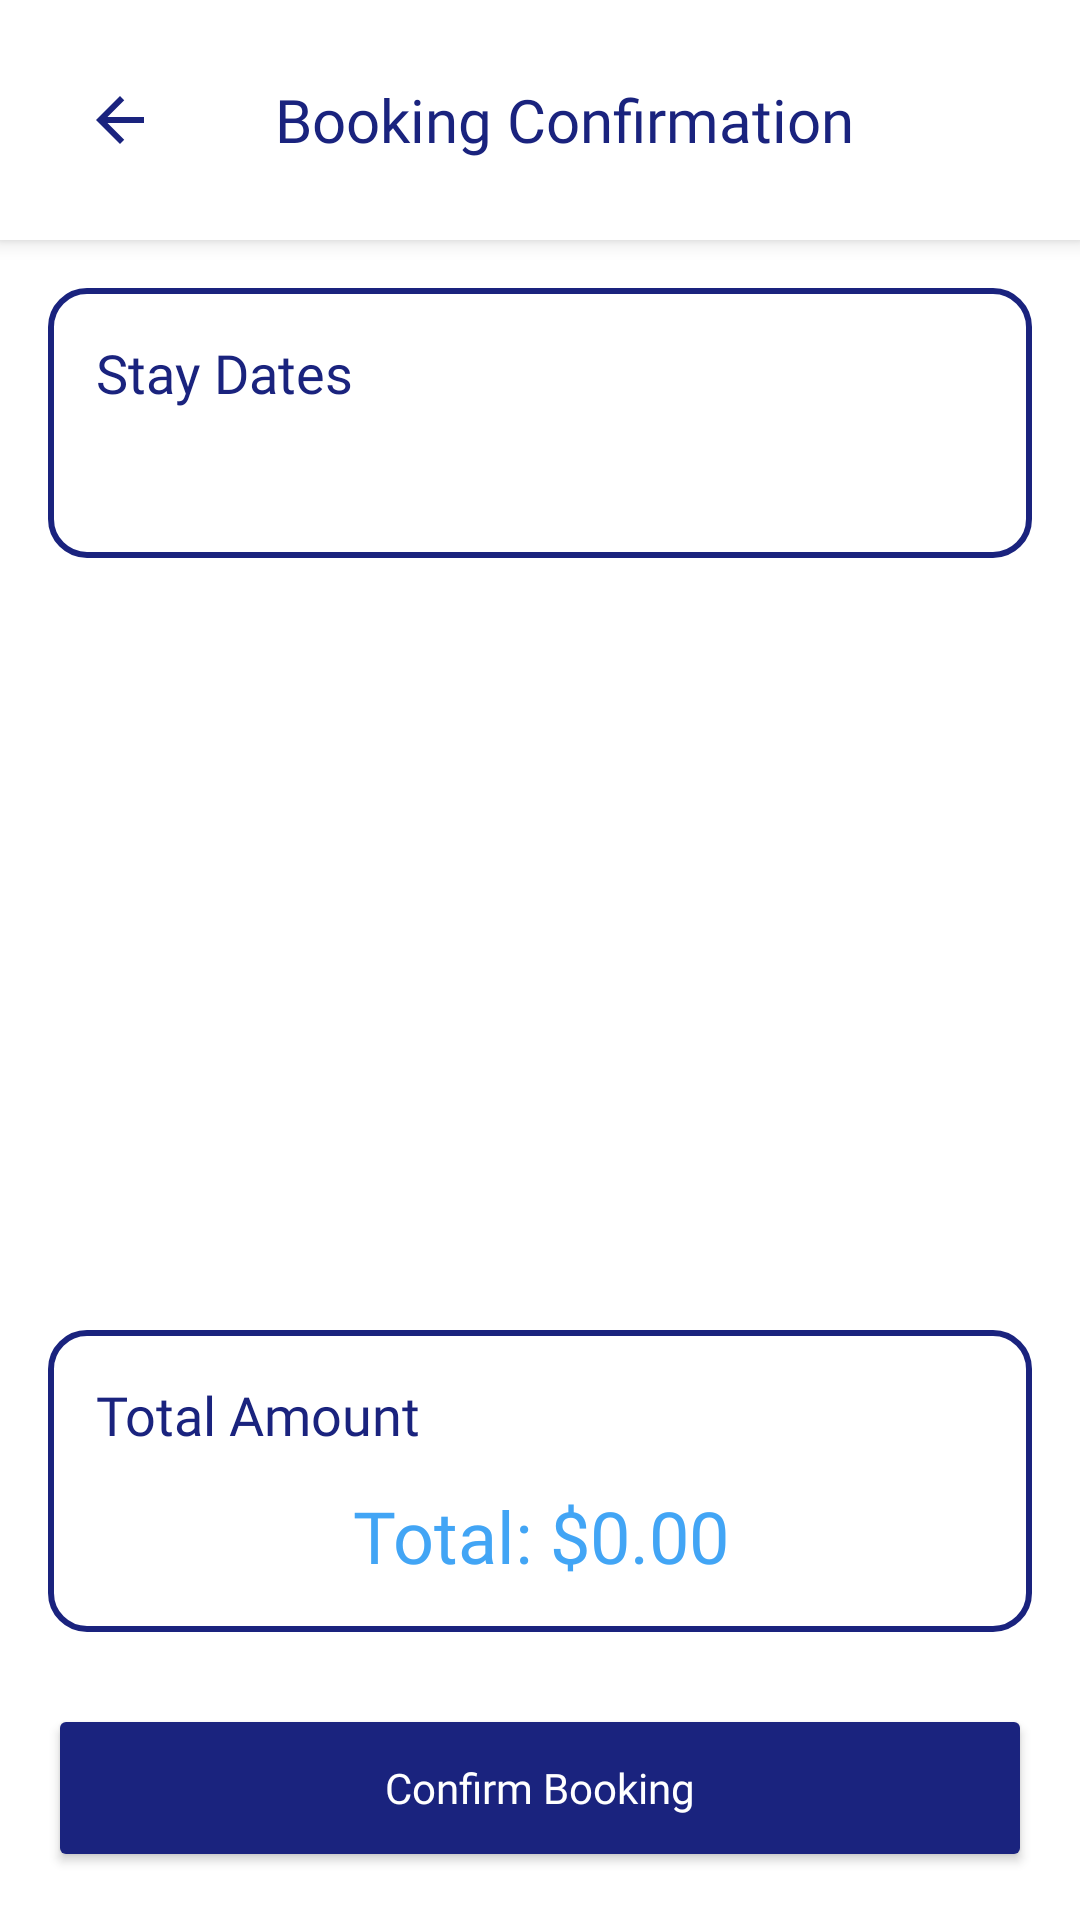

Where to tap for icons on this 1080px x 1920px app screen, as [x,y]:
Go back: [120,120]
